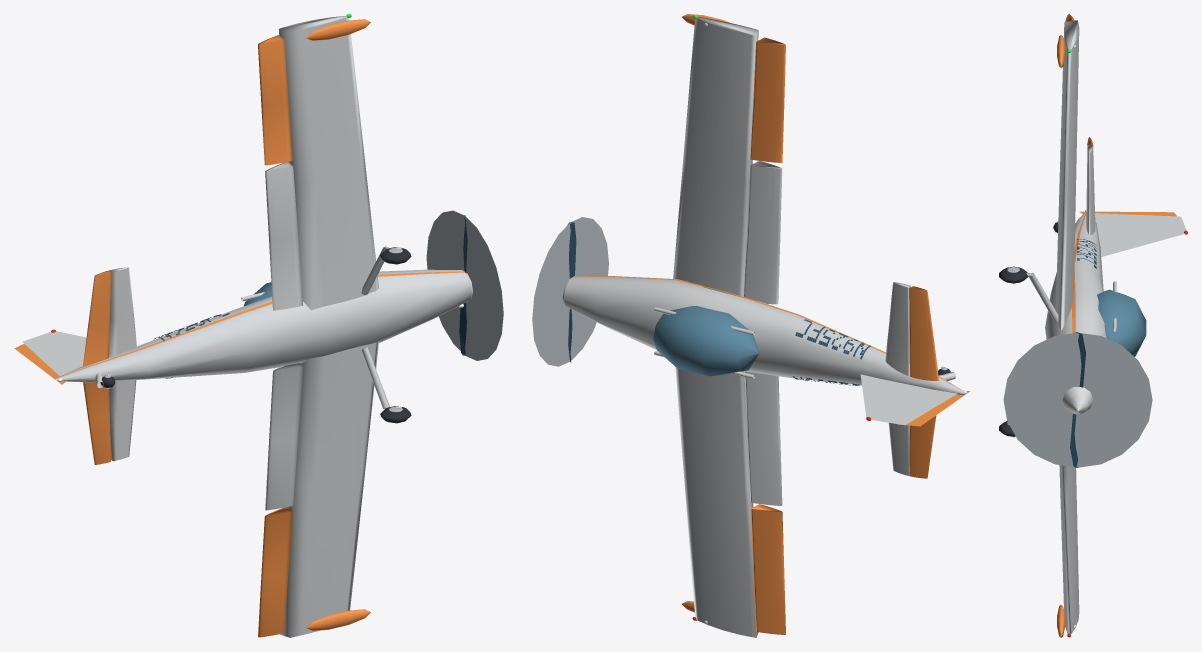
The model's file is exterior-lod1.glb.
3 views of the same model, side by side, from view 1: azimuth 30°, elevation 25°; view 2: azimuth 150°, elevation 25°; view 3: azimuth 270°, elevation 25° (orthographic). The views are drawn at different scales.
Parts seen in each view (by area): view 1: airframe, wing_right, wing_left, prop_blur, flaps_right, flaps_left, aileron_right, aileron_left, stabilizer_right, elevator_right, vertical_stabilizer, stabilizer_left (+3 smaller); view 2: wing_right, wing_left, airframe, prop_blur, canopy, flaps_right, flaps_left, aileron_left, aileron_right, vertical_stabilizer, elevator_right, stabilizer_right (+3 smaller); view 3: prop_blur, wing_right, airframe, vertical_stabilizer, wing_left, canopy, stabilizer_right, spinner, propeller, wheel_1, rudder.
Boxes of the visible parts, box(x1,y1,x2,y2) form: airframe: box(55, 247, 471, 409); wing_right: box(279, 16, 378, 310); wing_left: box(280, 341, 378, 637); prop_blur: box(426, 210, 503, 360); flaps_right: box(265, 162, 303, 310); flaps_left: box(265, 363, 303, 510); aileron_right: box(258, 35, 292, 165); aileron_left: box(258, 507, 292, 637); stabilizer_right: box(109, 267, 136, 356); elevator_right: box(83, 270, 110, 366); vertical_stabilizer: box(22, 331, 86, 376); stabilizer_left: box(109, 380, 136, 461); wing_right: box(673, 17, 758, 296); wing_left: box(675, 367, 758, 637); airframe: box(563, 276, 965, 394); prop_blur: box(532, 217, 608, 366); canopy: box(653, 306, 758, 376); flaps_right: box(744, 161, 782, 304); flaps_left: box(744, 371, 782, 505); aileron_left: box(750, 504, 785, 634); aileron_right: box(750, 37, 785, 162); vertical_stabilizer: box(860, 374, 957, 425); elevator_right: box(909, 286, 939, 380); stabilizer_right: box(885, 282, 910, 376); prop_blur: box(1003, 332, 1152, 467); wing_right: box(1056, 20, 1079, 329); airframe: box(1029, 211, 1116, 339); vertical_stabilizer: box(1095, 213, 1186, 256); wing_left: box(1059, 465, 1079, 633); canopy: box(1097, 289, 1146, 356); stabilizer_right: box(1086, 145, 1095, 235); spinner: box(1062, 387, 1093, 414); propeller: box(1070, 332, 1085, 467); wheel_1: box(999, 266, 1027, 284); rudder: box(1079, 211, 1176, 216).
Bounding box in the file's own units: 5.9 × 8.05 × 2.34.
